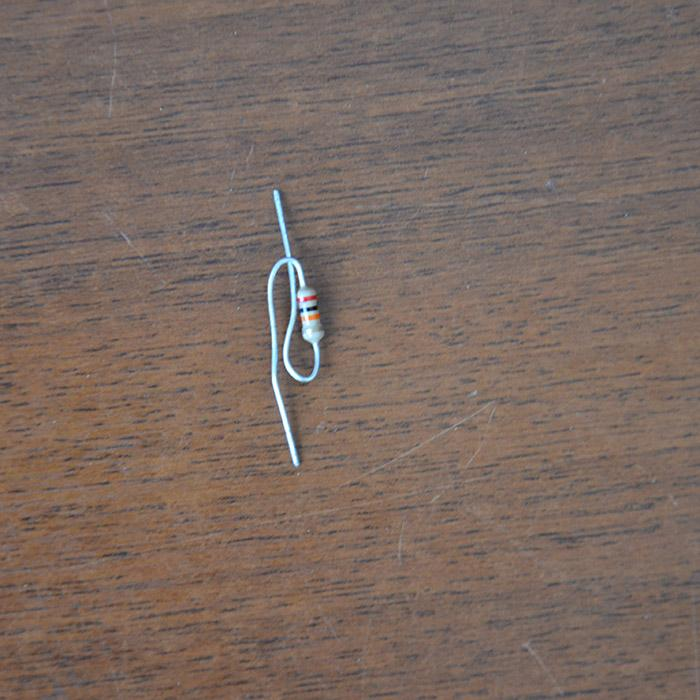resistor: (295, 285, 326, 343)
